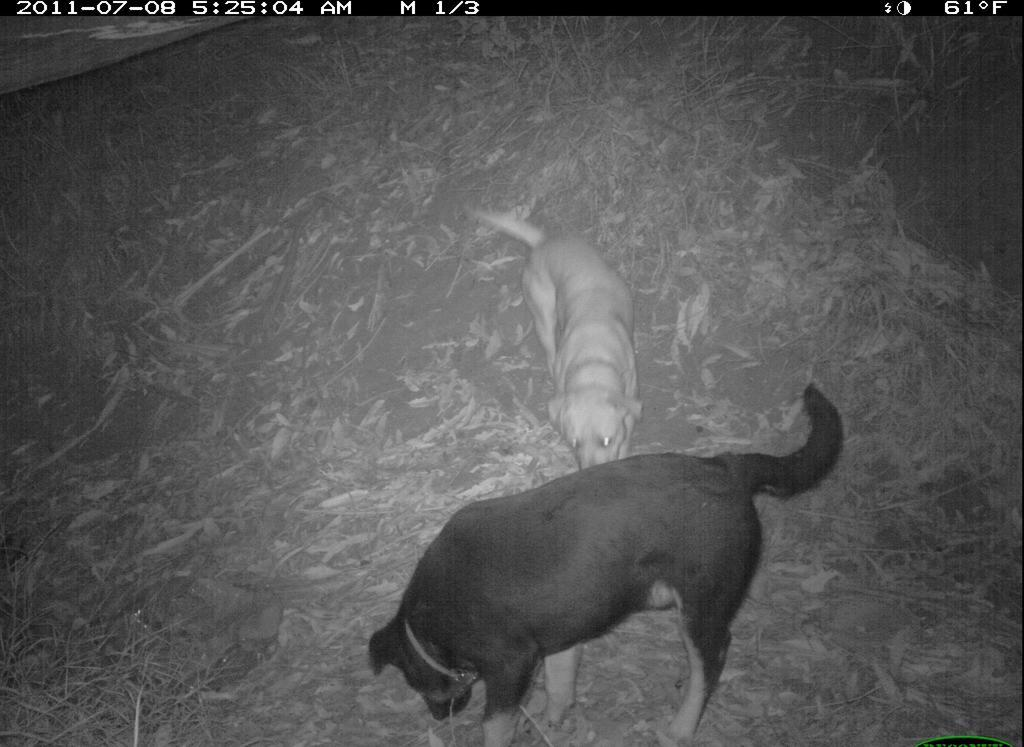dog: (369, 385, 852, 747), (460, 191, 646, 469)
